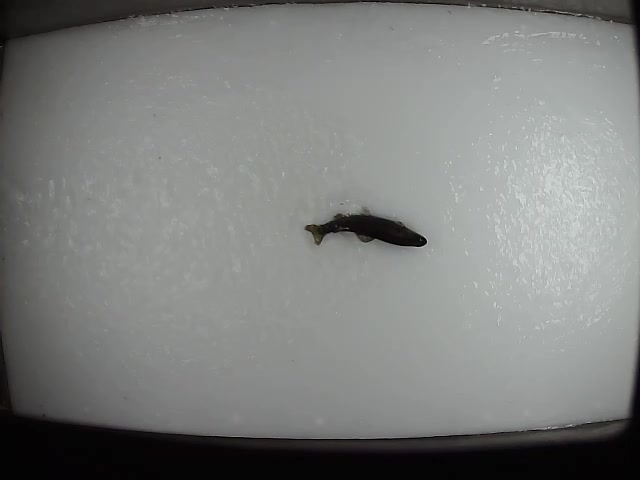Fish: (304, 207, 427, 247)
